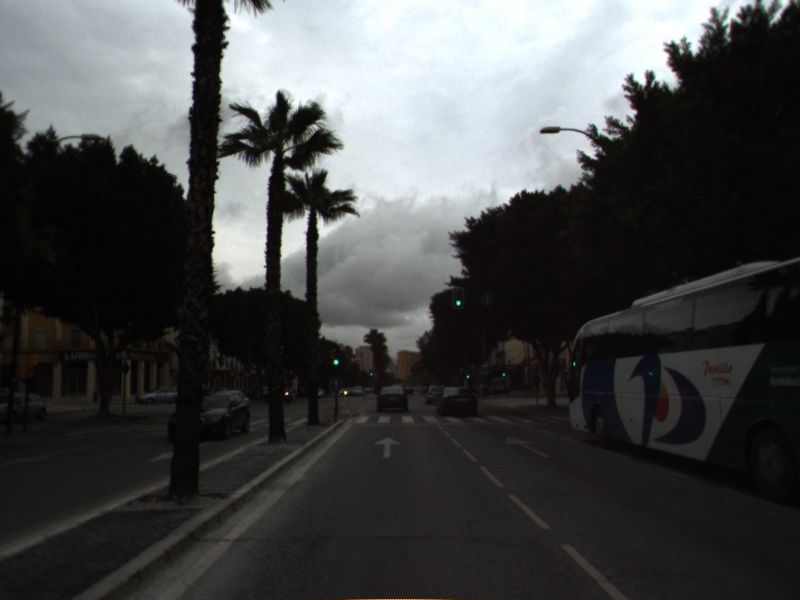STRAIGHT: (503, 434, 554, 460), (372, 434, 404, 460)
